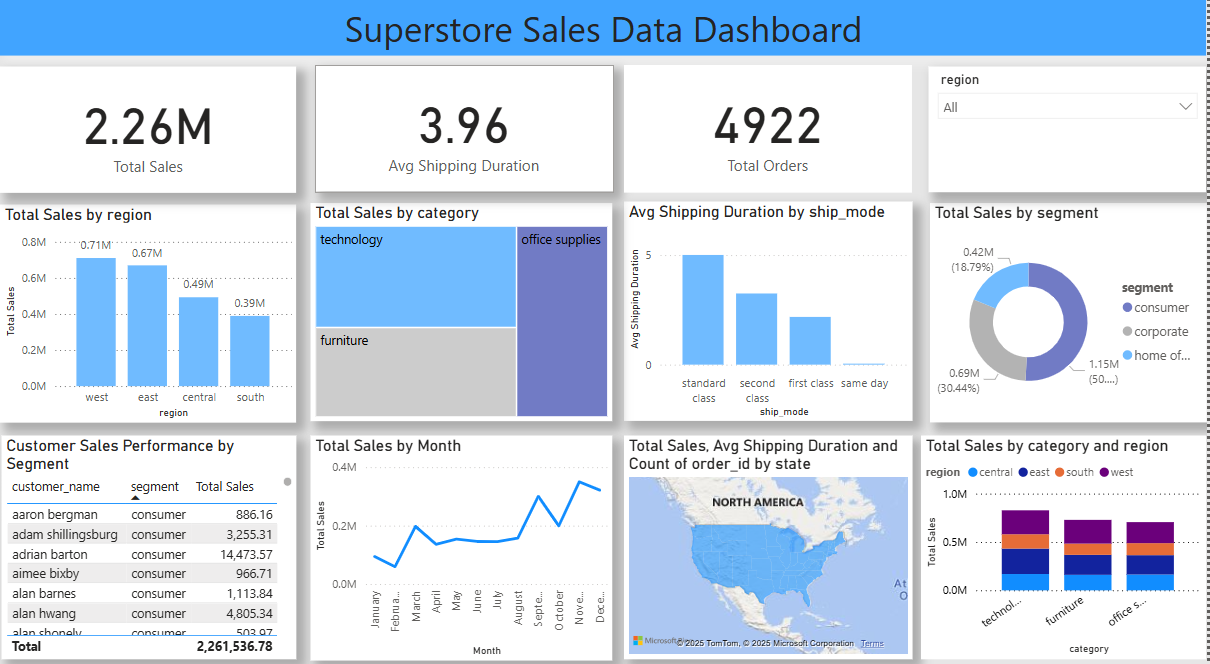

This screenshot's page, from the dashboard's own definition file:
{"tool":"powerbi","page":{"name":"Page 1","canvas":[1280,720],"ordinal":0},"visuals":[{"type":"columnChart","fields":{"Y":["superstore_salesdata.Total Sales"],"Category":["superstore_salesdata.region"]},"box":[0,227.1,314.3,231.4],"z":0},{"type":"textbox","box":[0,10,1280,60],"z":1000},{"type":"card","fields":{"Values":["superstore_salesdata.Total Sales"]},"box":[0,81.4,314.3,134.3],"z":2000},{"type":"columnChart","fields":{"Category":["superstore_salesdata.ship_mode"],"Y":["superstore_salesdata.Avg Shipping Duration"]},"box":[661.4,224.3,305.7,232.9],"z":3000},{"type":"treemap","fields":{"Group":["superstore_salesdata.category","superstore_salesdata.sub-category"],"Values":["superstore_salesdata.Total Sales"]},"box":[330,225.7,320,231.4],"z":4000},{"type":"tableEx","title":"Customer Sales Performance by Segment","fields":{"Values":["superstore_salesdata.customer_name","superstore_salesdata.segment","superstore_salesdata.Total Sales"]},"box":[1.4,472.9,312.9,237.1],"z":5000},{"type":"card","fields":{"Values":["superstore_salesdata.Avg Shipping Duration"]},"box":[334.3,80,315.7,134.3],"z":6000},{"type":"lineChart","fields":{"Category":["superstore_salesdata.order_date.Variation.Date Hierarchy.Month"],"Y":["superstore_salesdata.Total Sales"]},"box":[330,472.9,320,238.6],"z":7000},{"type":"filledMap","fields":{"Category":["superstore_salesdata.state"],"X":["superstore_salesdata.Total Sales"]},"box":[661.4,472.9,305.7,237.1],"z":8000},{"type":"donutChart","fields":{"Category":["superstore_salesdata.segment"],"Y":["superstore_salesdata.Total Sales"]},"box":[985.5,226.4,294.5,232.7],"z":9000},{"type":"slicer","fields":{"Values":["superstore_salesdata.region"]},"box":[985,81.7,295,133.3],"z":10000},{"type":"columnChart","fields":{"Category":["superstore_salesdata.category"],"Y":["superstore_salesdata.Total Sales"],"Series":["superstore_salesdata.region"]},"box":[977.1,472.9,302.9,237.1],"z":11000},{"type":"card","fields":{"Values":["superstore_salesdata.Total Orders"]},"box":[661.7,80,305,135],"z":12000}]}

Visuals, with their boxes in screenshot pixels (x1, y1, x2, y2), scaled from the page's 1280x720 canvas onto the 1210x664 screenshot:
columnChart - superstore_salesdata.Total Sales x superstore_salesdata.region: BBox(0, 209, 297, 423)
textbox: BBox(0, 9, 1209, 65)
card - superstore_salesdata.Total Sales: BBox(0, 75, 297, 199)
columnChart - superstore_salesdata.ship_mode x superstore_salesdata.Avg Shipping Duration: BBox(625, 207, 914, 422)
treemap - superstore_salesdata.category x superstore_salesdata.sub-category: BBox(312, 208, 614, 422)
"Customer Sales Performance by Segment" tableEx: BBox(1, 436, 297, 655)
card - superstore_salesdata.Avg Shipping Duration: BBox(316, 74, 614, 198)
lineChart - superstore_salesdata.order_date.Variation.Date Hierarchy.Month x superstore_salesdata.Total Sales: BBox(312, 436, 614, 656)
filledMap - superstore_salesdata.state x superstore_salesdata.Total Sales: BBox(625, 436, 914, 655)
donutChart - superstore_salesdata.segment x superstore_salesdata.Total Sales: BBox(932, 209, 1209, 423)
slicer - superstore_salesdata.region: BBox(931, 75, 1209, 198)
columnChart - superstore_salesdata.category x superstore_salesdata.Total Sales: BBox(924, 436, 1209, 655)
card - superstore_salesdata.Total Orders: BBox(626, 74, 914, 198)
